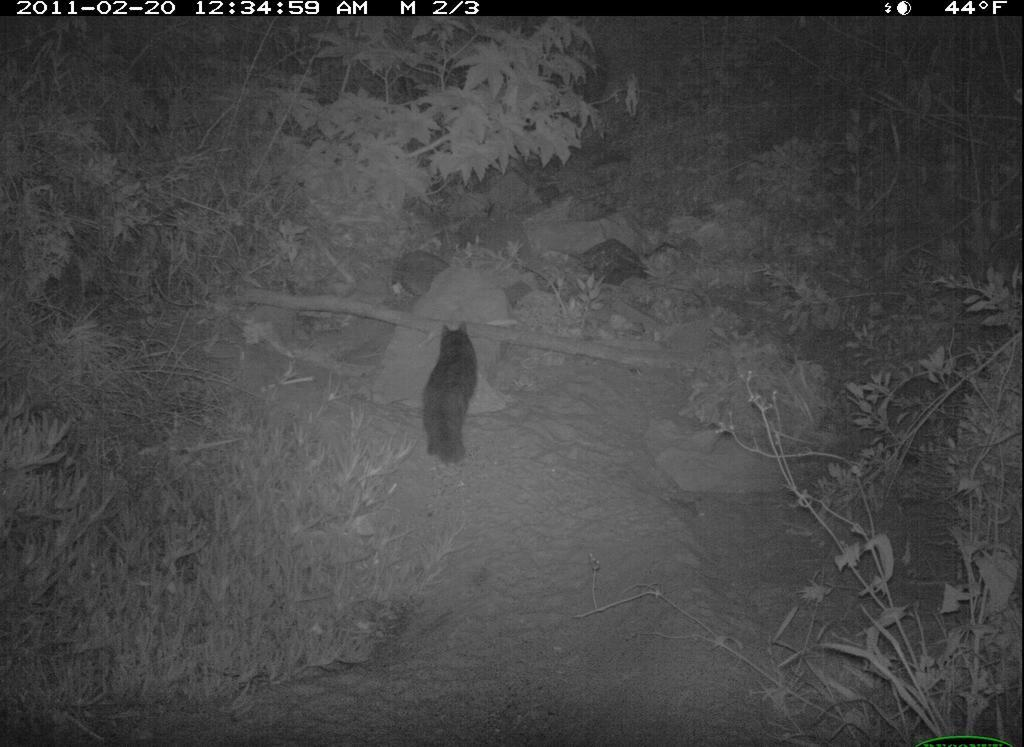cat: (417, 315, 481, 474)
